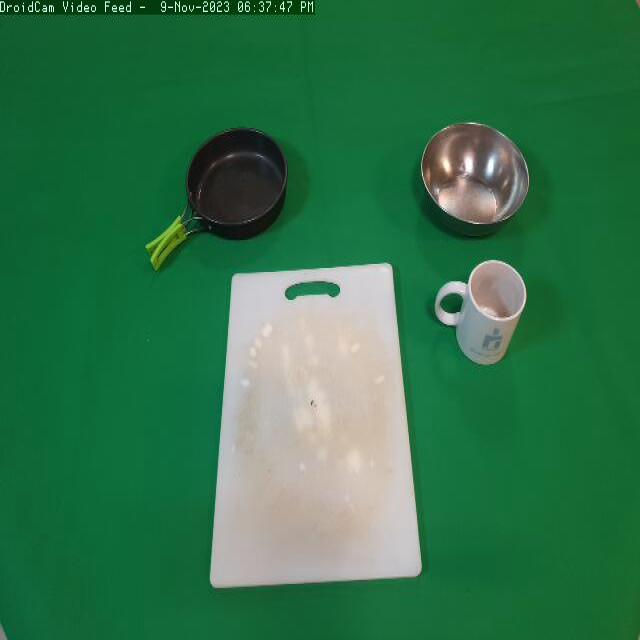bowl: (418, 118, 533, 249)
cup: (433, 252, 531, 381)
cutting board: (209, 249, 425, 605)
pan: (130, 115, 302, 273)
